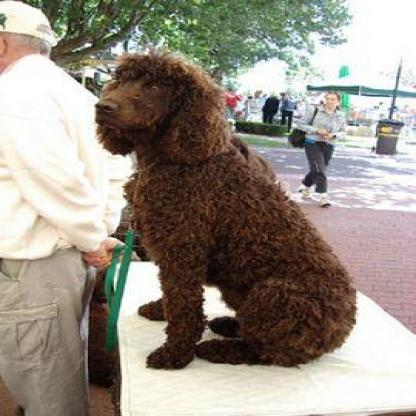Irish_water_spaniel: (92, 52, 356, 371)
